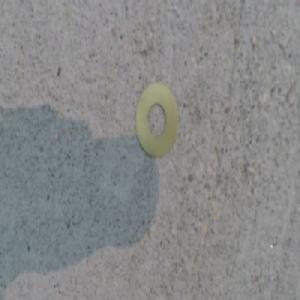Washer: (134, 83, 179, 161)
